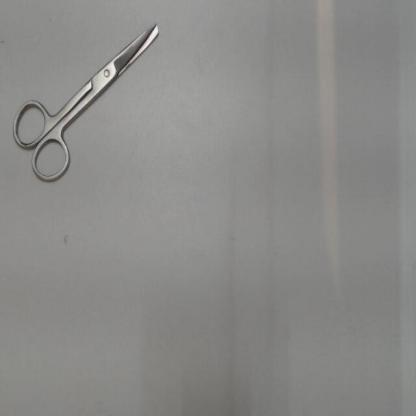Dressing Scissors: (0, 10, 174, 197)
